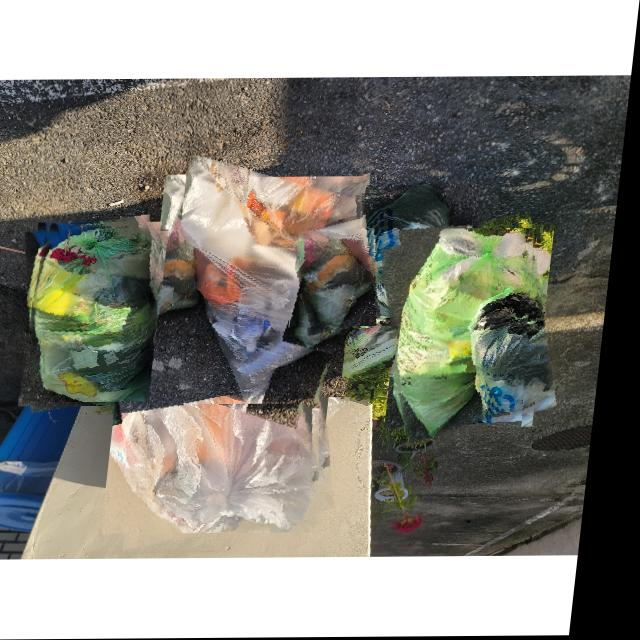general_trashbag: (405, 229, 540, 436), (41, 225, 165, 402), (367, 187, 483, 340), (304, 230, 382, 325), (356, 327, 406, 378)
other_trashbag: (122, 318, 333, 534), (187, 155, 362, 404)
